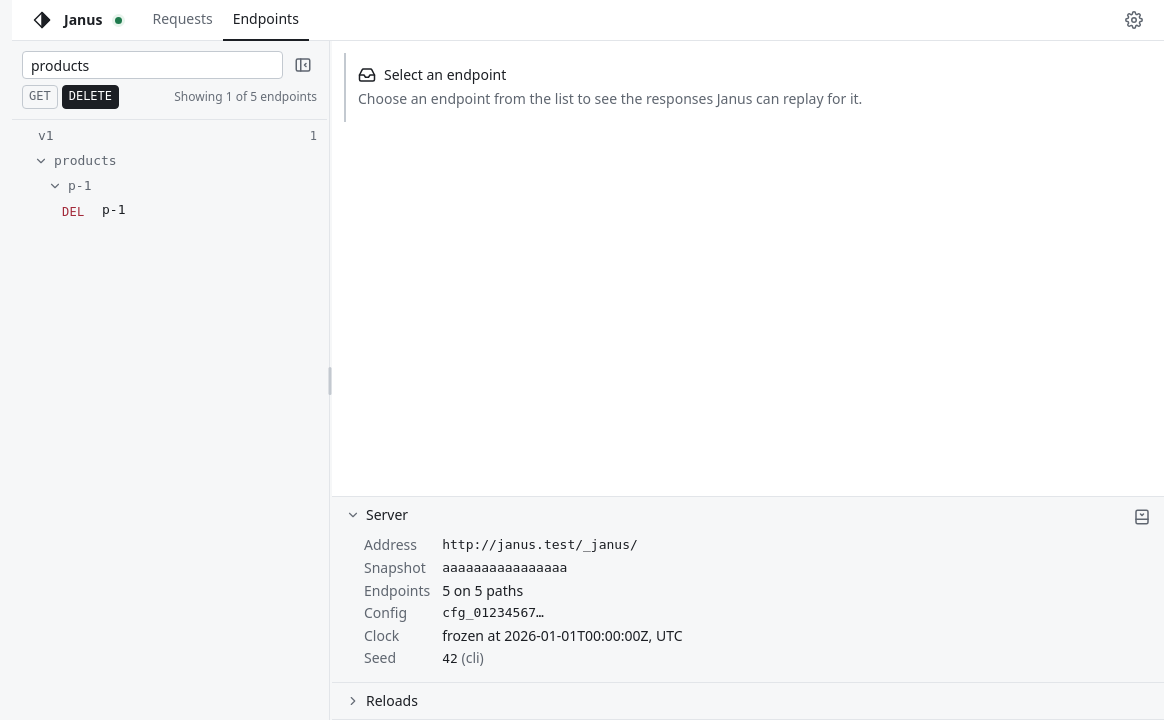
Test case: inventory search and filters › restores the view from the hash after a reload of the page, and keeps it while navigating
Expected: the search field named "Filter endpoints" holds "products", [22,51,283,79]
Click the link with aria-label "DELETE /v1/products/p-1, scenario default" at (95, 210), box [62,202,129,219]
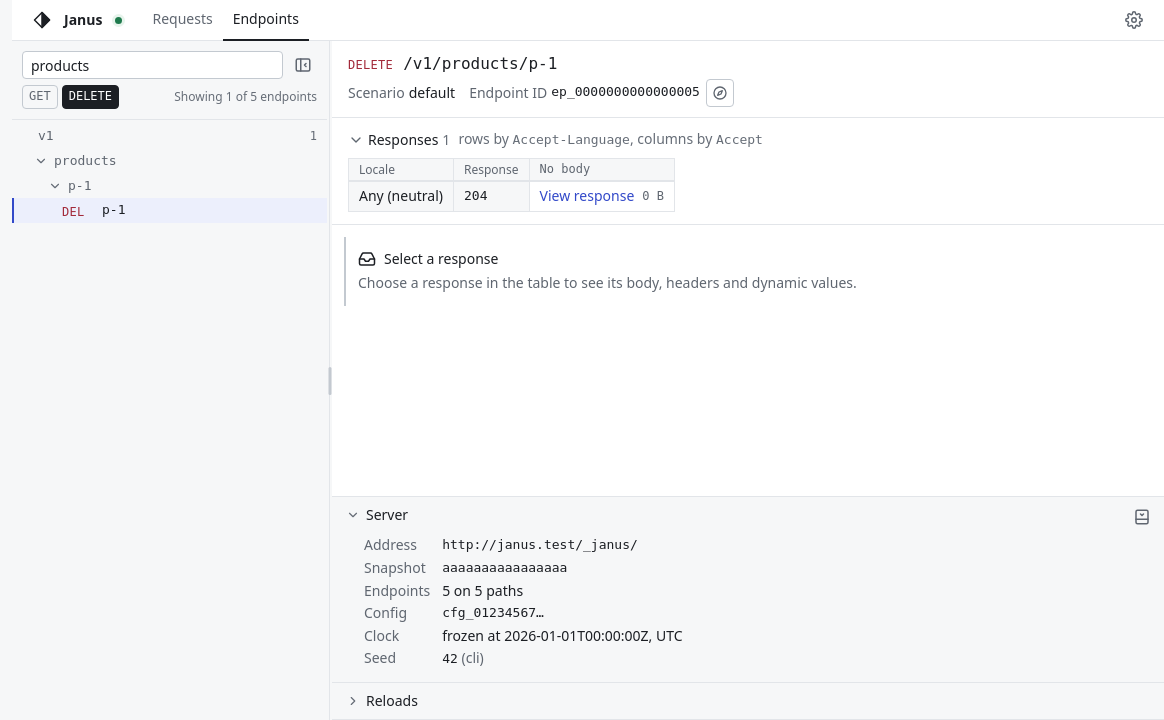
Expected: the text "products" is shown, [54,153,117,168]
Result: the heading "DELETE /v1/products/p-1" is shown at [348,54,557,73]
